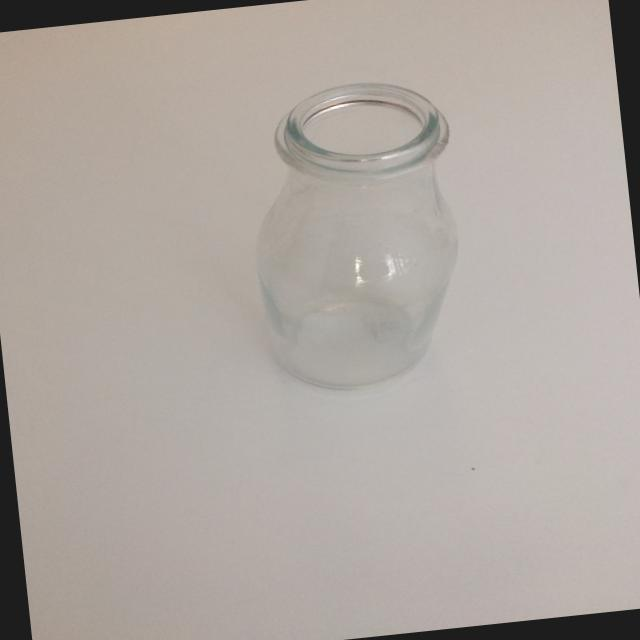Glass: (219, 58, 496, 406)
